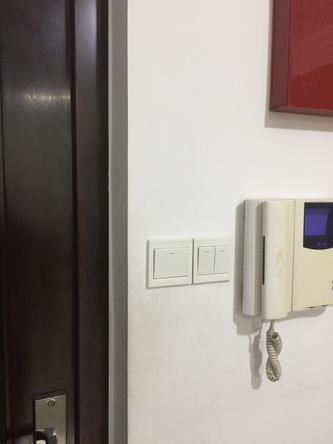switch: (151, 243, 191, 278), (213, 245, 233, 274), (198, 246, 215, 274)
